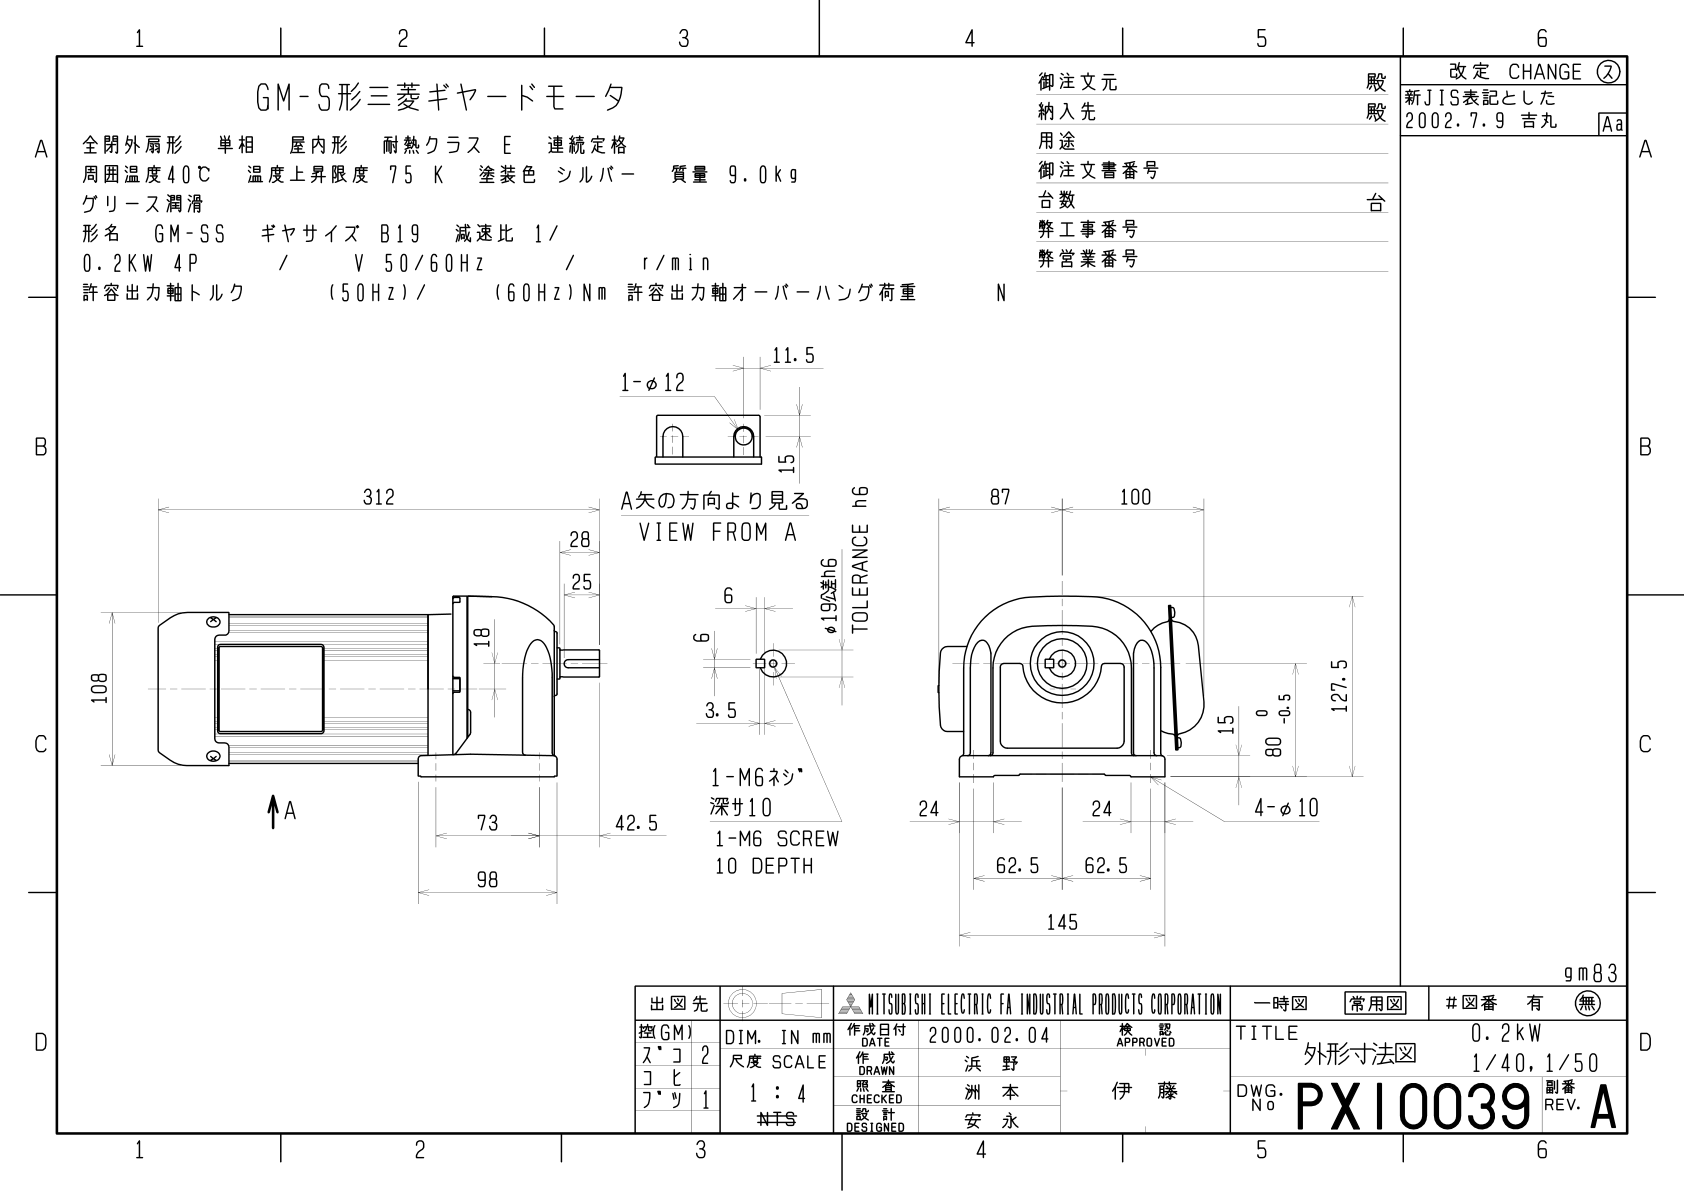GM_S_屋内＿三相_脚: (71, 333, 1383, 956)
